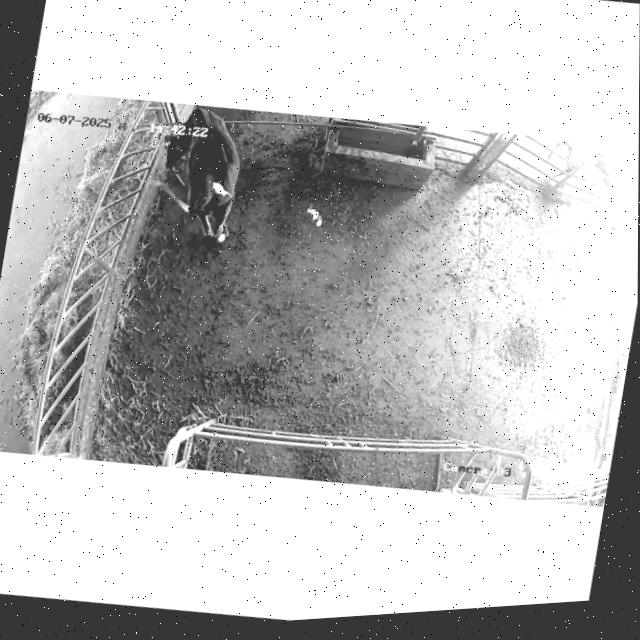stand: (145, 98, 259, 253)
